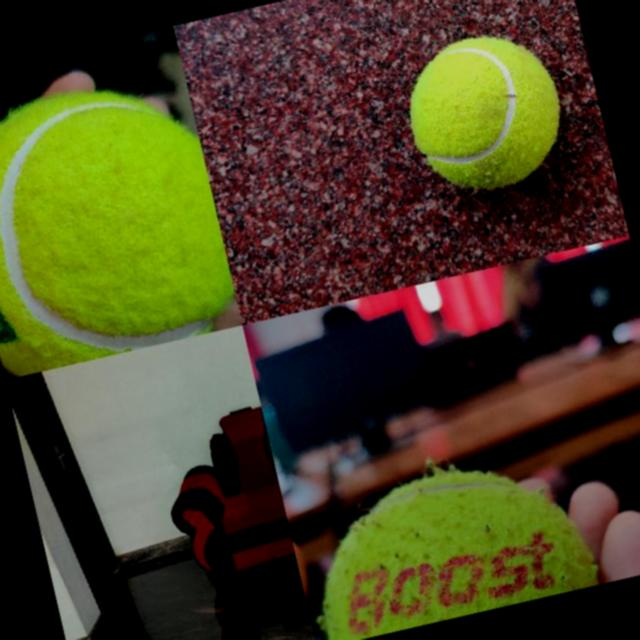tennis-ball: (0, 66, 241, 378), (294, 443, 598, 640), (396, 22, 574, 201)
